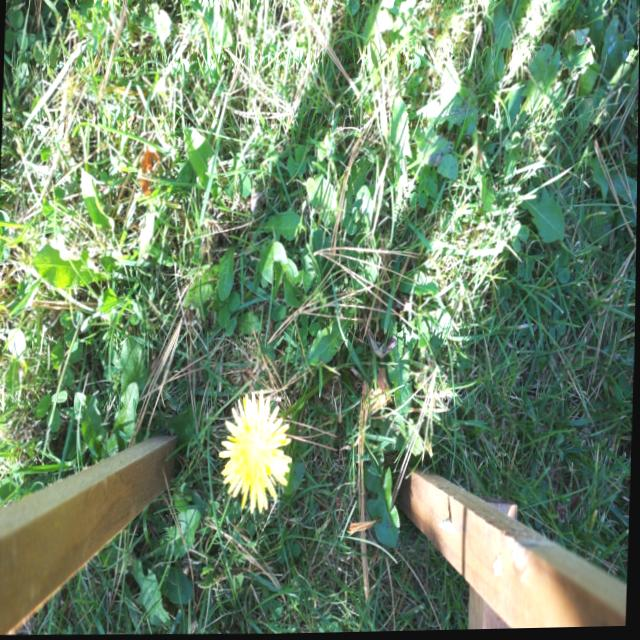base: (334, 351, 355, 382)
